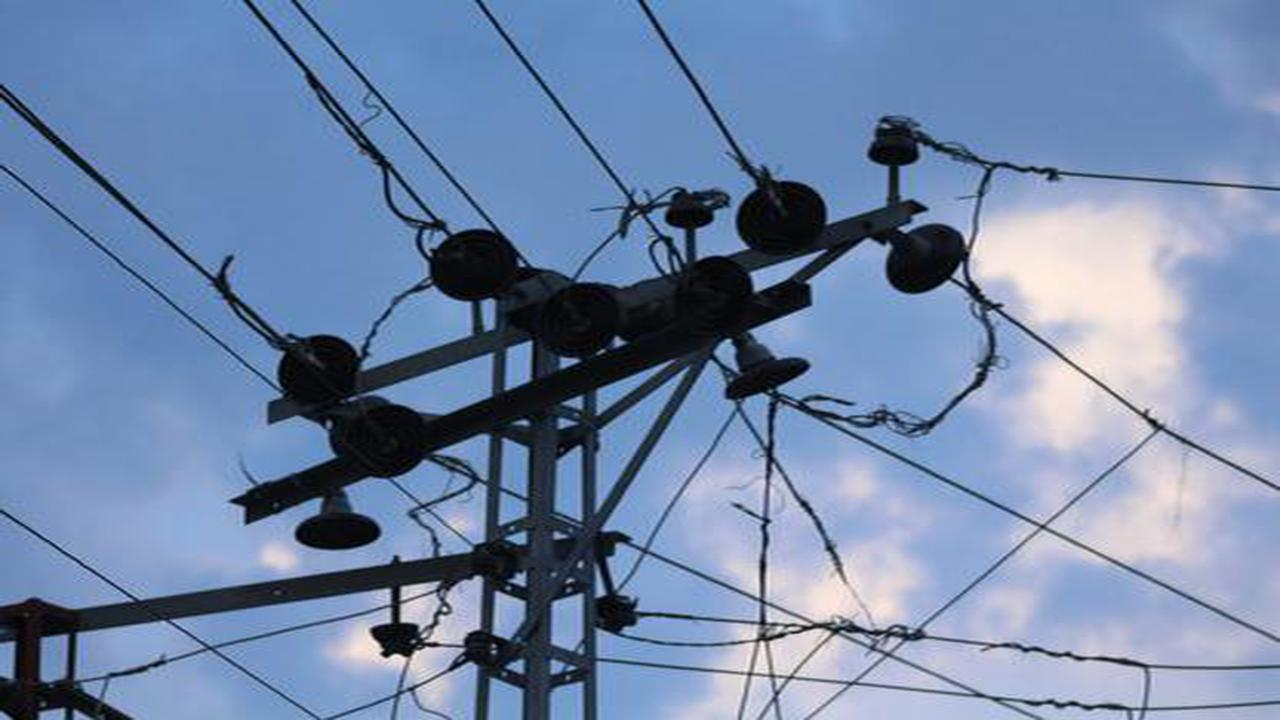insulator_disc: (422, 218, 518, 306), (328, 397, 431, 477), (268, 327, 367, 408), (732, 179, 832, 255), (876, 223, 974, 295), (538, 285, 624, 357), (671, 259, 754, 331), (300, 494, 383, 557), (726, 349, 812, 402)
insulator_pin: (866, 111, 927, 172), (661, 183, 719, 234), (367, 617, 423, 660)
